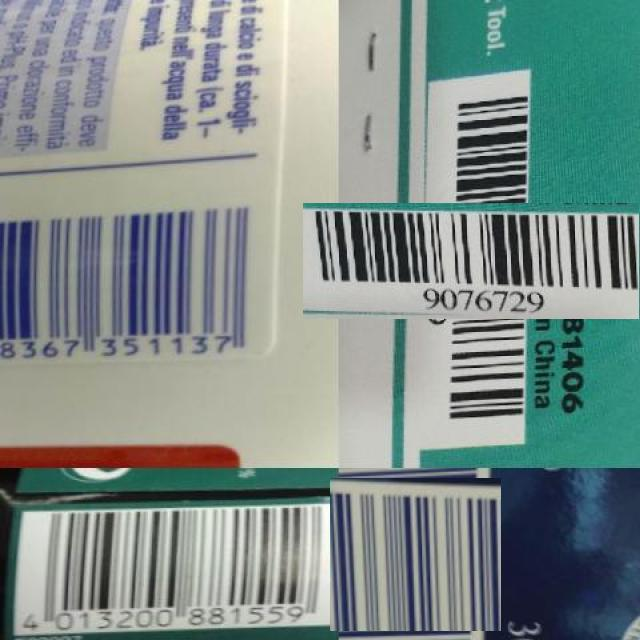Barcode: (362, 144, 596, 378), (0, 195, 257, 377), (8, 504, 339, 640), (334, 473, 497, 635)
